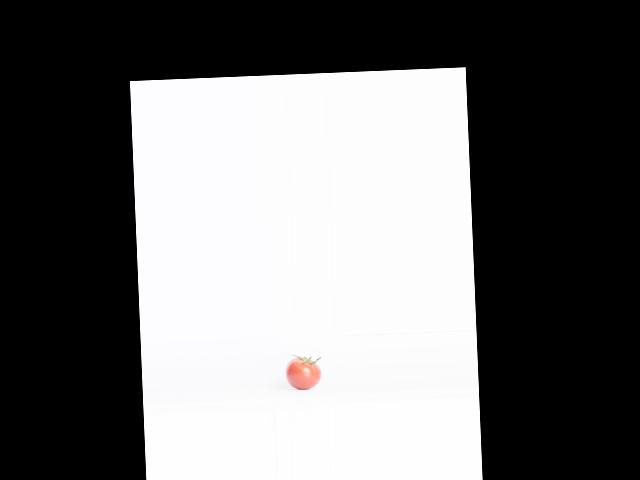tomato: (284, 357, 321, 390)
